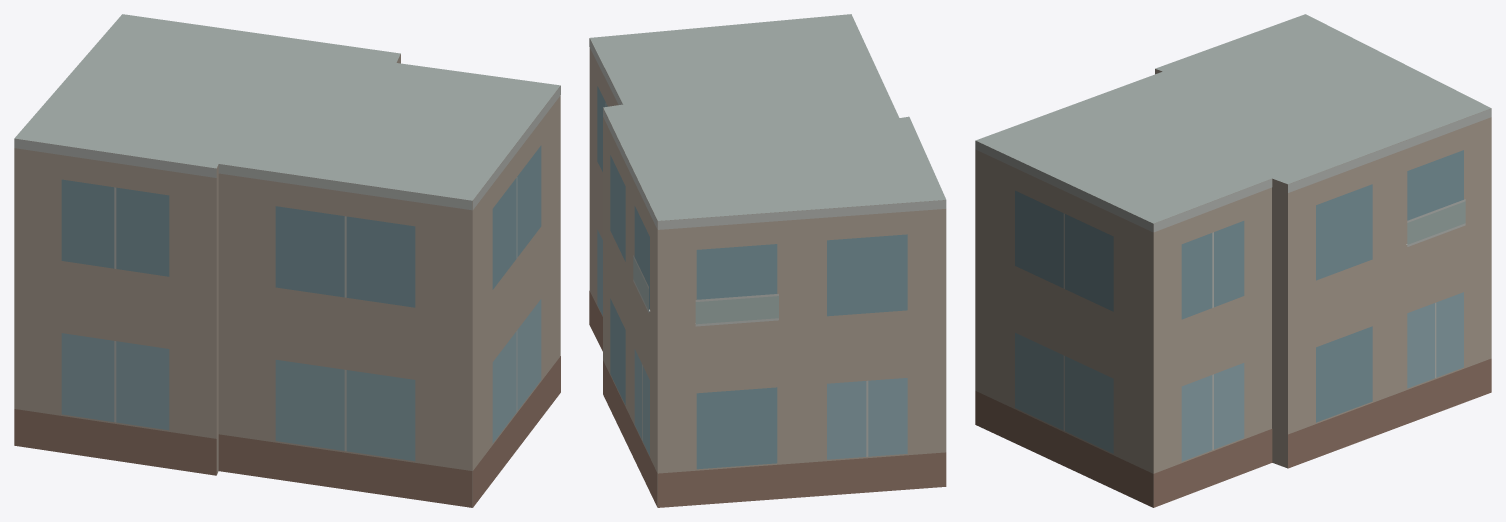
The model's file is survey-upis-32559816.glb.
The picture shows the model from 3 angles, left to right: view 1: azimuth 30°, elevation 25°; view 2: azimuth 150°, elevation 25°; view 3: azimuth 270°, elevation 25°; orthographic projection. The views are drawn at different scales.
Visible parts, largest first — view 1: survey-upis-32559816.tmp; view 2: survey-upis-32559816.tmp; view 3: survey-upis-32559816.tmp.
Part boxes in pixels (bbox=[...]): survey-upis-32559816.tmp: bbox=[14, 14, 560, 507]; survey-upis-32559816.tmp: bbox=[589, 14, 946, 507]; survey-upis-32559816.tmp: bbox=[975, 14, 1491, 507].
Size of the model in its own units: 12.35 by 7.8 by 12.85.
